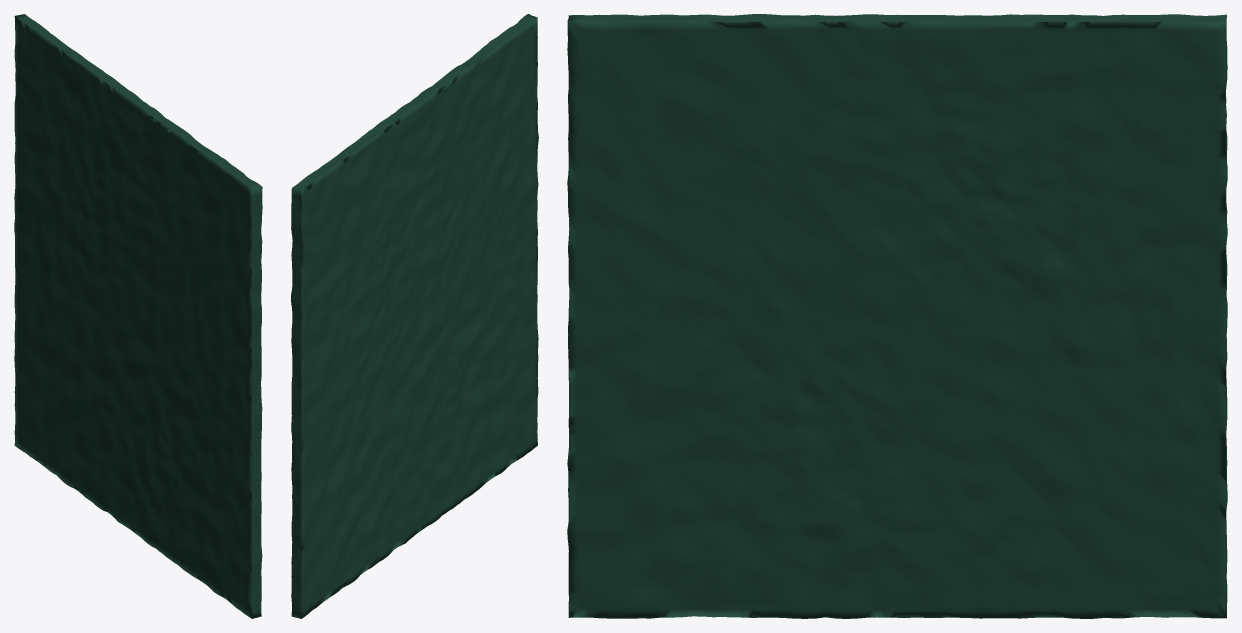
The model's file is Tierra.glb.
3 views of the same model, side by side, from view 1: azimuth 30°, elevation 25°; view 2: azimuth 150°, elevation 25°; view 3: azimuth 270°, elevation 25° (orthographic). The views are drawn at different scales.
Visible parts, largest first — view 1: Tierra; view 2: Tierra; view 3: Tierra.
Part boxes in pixels (x1,y1,x2,y2): Tierra: (14,14,262,618); Tierra: (291,14,538,618); Tierra: (567,14,1227,618).
Bounding box in the file's own units: 0.4721 × 15.55 × 15.54.
